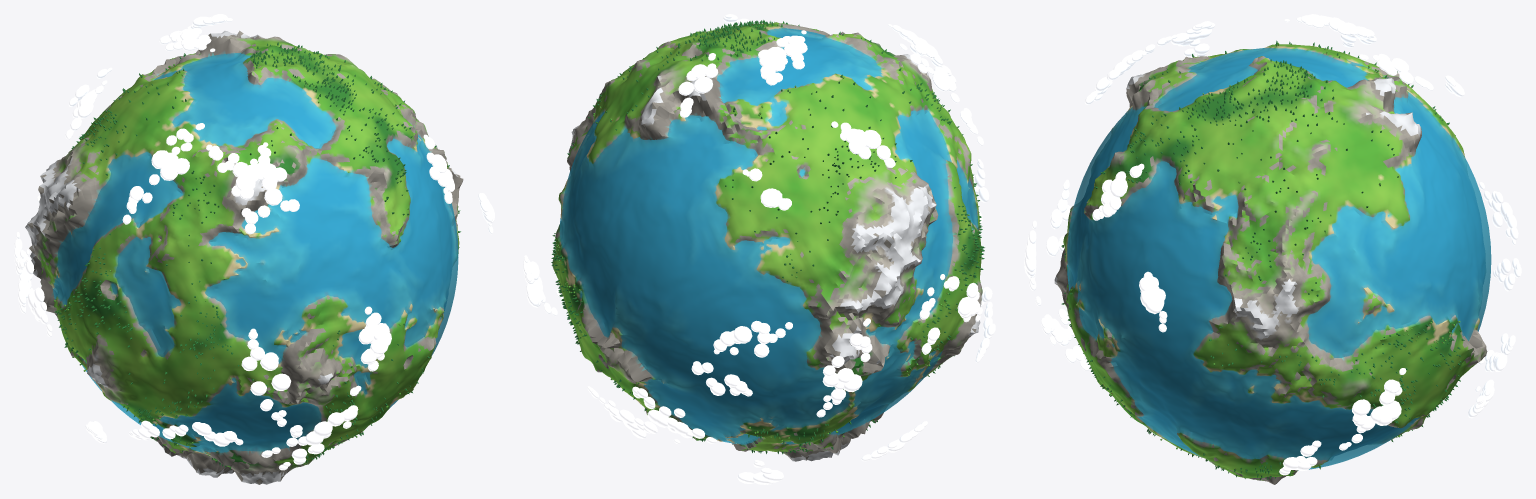
Rendered from earthlike_seed42.glb.
The picture shows the model from 3 angles, left to right: view 1: azimuth 30°, elevation 25°; view 2: azimuth 150°, elevation 25°; view 3: azimuth 270°, elevation 25°; orthographic projection. The views are drawn at different scales.
Parts seen in each view (by area): view 1: Terrain, Ocean, Clouds, Trees; view 2: Terrain, Ocean, Clouds, Trees; view 3: Terrain, Ocean, Clouds, Trees.
Part boxes in pixels (box(x1,y1,x2,y2)): Terrain: box(25, 30, 463, 484); Ocean: box(52, 53, 458, 453); Clouds: box(14, 14, 494, 470); Trees: box(53, 42, 460, 469); Terrain: box(552, 22, 982, 461); Ocean: box(560, 28, 978, 444); Clouds: box(523, 14, 995, 484); Trees: box(551, 20, 984, 454); Terrain: box(1054, 44, 1487, 484); Ocean: box(1067, 48, 1491, 470); Clouds: box(1024, 14, 1521, 475); Trees: box(1061, 40, 1464, 480).
Size of the model in its own units: 22.94 by 22.7 by 23.45.
